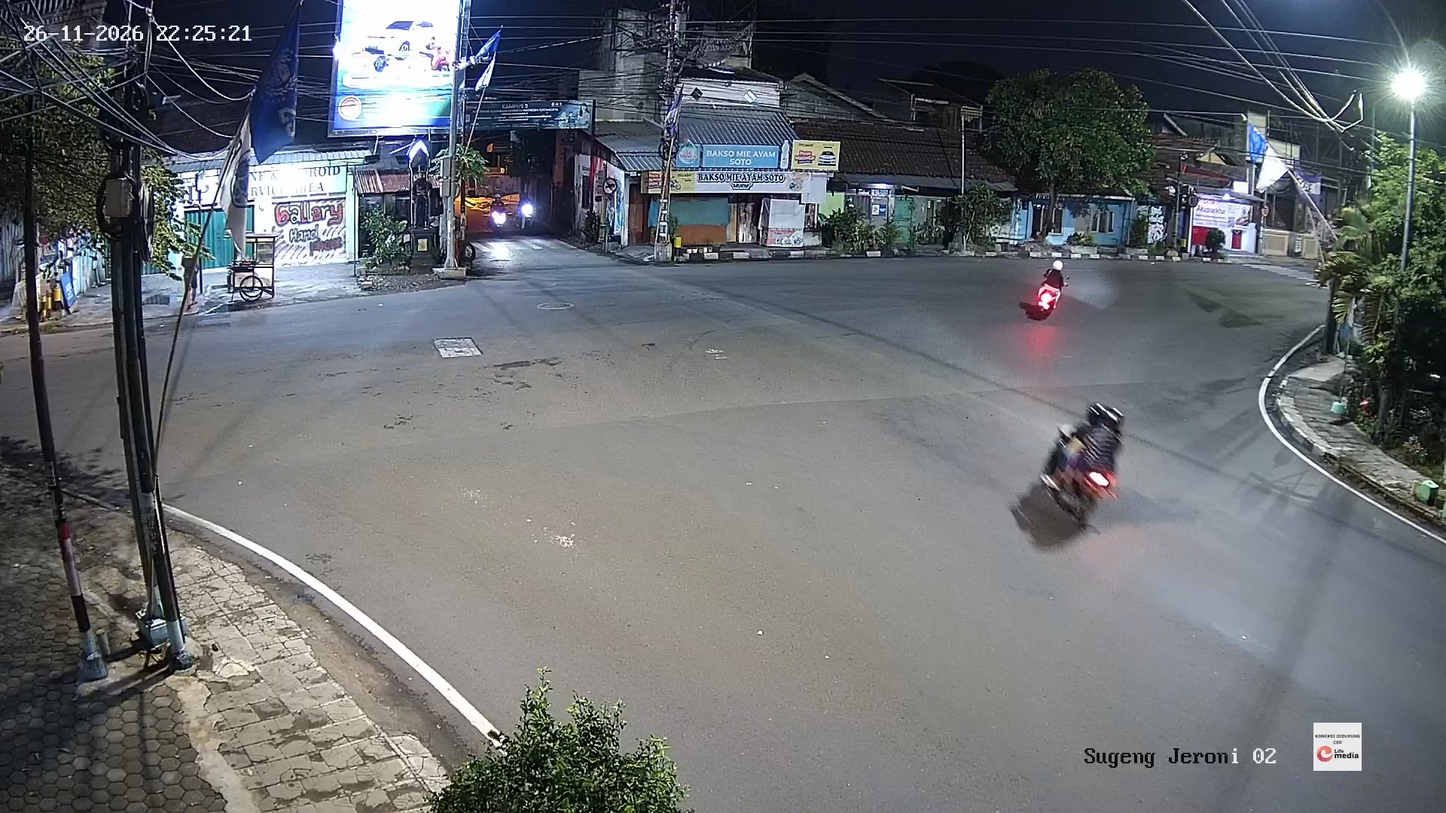Gerobak: (226, 233, 278, 301)
